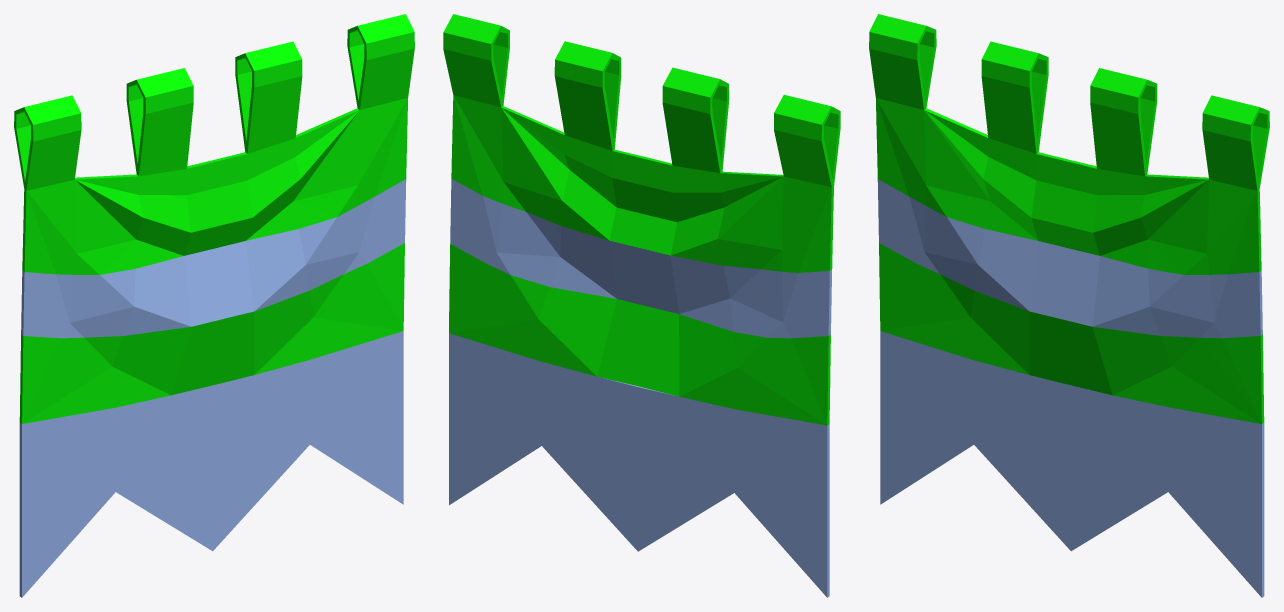
File: SM_Flag_Banner_Short_C_Fantasy.fbx
3 renders of one model, left to right at view 1: azimuth 30°, elevation 25°; view 2: azimuth 150°, elevation 25°; view 3: azimuth 330°, elevation 25°, orthographic.
Parts seen in each view (by area): view 1: flag-banner-short-c-fantasy; view 2: flag-banner-short-c-fantasy; view 3: flag-banner-short-c-fantasy.
Boxes of the visible parts, x1,y1,x2,y2 form: flag-banner-short-c-fantasy: [14, 14, 414, 597]; flag-banner-short-c-fantasy: [443, 14, 840, 597]; flag-banner-short-c-fantasy: [869, 14, 1269, 597].
Size of the model in its own units: 0.9568 by 1.18 by 0.0831.
